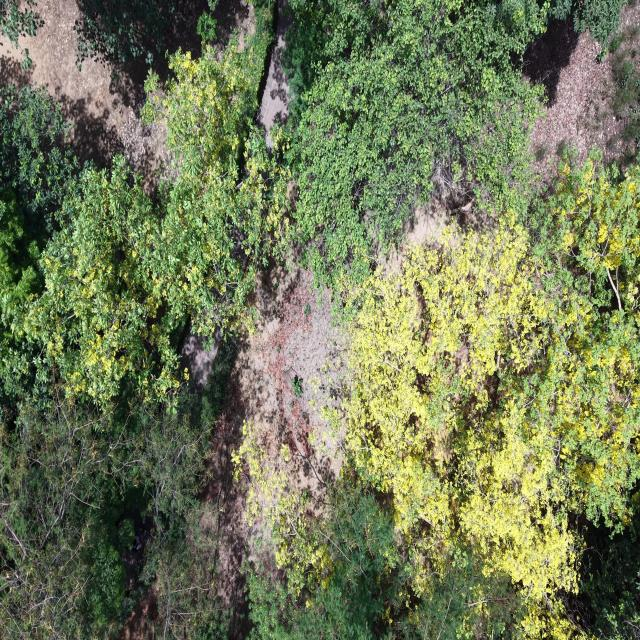DRY_AREA: (200, 266, 343, 636), (201, 266, 343, 615), (203, 265, 343, 615), (205, 260, 345, 603), (203, 267, 344, 605), (206, 266, 347, 603), (203, 267, 343, 602), (204, 267, 344, 602), (203, 267, 343, 601), (204, 267, 343, 602), (200, 270, 312, 636), (0, 0, 165, 190), (0, 0, 164, 186), (223, 261, 345, 510), (0, 0, 165, 184), (0, 0, 164, 183), (0, 0, 164, 179), (0, 0, 164, 177), (0, 0, 163, 175), (226, 270, 344, 496), (223, 261, 343, 483), (228, 270, 343, 493), (228, 267, 344, 487), (225, 266, 343, 479), (224, 266, 342, 456), (224, 267, 340, 453), (231, 266, 342, 454), (524, 19, 625, 185), (524, 19, 624, 182), (525, 20, 624, 182), (524, 19, 623, 180), (525, 20, 619, 179), (195, 376, 249, 638), (200, 371, 249, 637), (377, 197, 470, 271), (256, 0, 290, 147), (258, 0, 290, 146), (524, 20, 579, 104), (399, 199, 448, 253), (181, 330, 221, 391), (119, 589, 157, 639), (214, 0, 254, 47)
VEGETATION_TREE: (0, 0, 639, 639), (237, 156, 639, 637), (0, 12, 286, 638), (345, 158, 639, 637), (345, 160, 639, 596), (12, 10, 287, 406), (0, 159, 219, 637), (285, 0, 622, 288), (342, 230, 576, 637), (345, 228, 575, 608), (285, 0, 546, 287), (13, 157, 269, 407), (0, 372, 218, 638), (143, 8, 289, 338), (248, 469, 521, 639), (15, 158, 187, 406), (527, 156, 639, 527), (249, 481, 405, 639), (0, 86, 77, 406), (139, 483, 244, 639), (0, 85, 74, 234), (74, 0, 217, 69), (571, 496, 639, 639), (74, 0, 217, 65), (74, 0, 176, 66), (609, 26, 639, 168), (550, 0, 626, 47), (613, 30, 639, 165), (0, 0, 43, 47), (0, 0, 42, 45), (197, 0, 218, 43)
